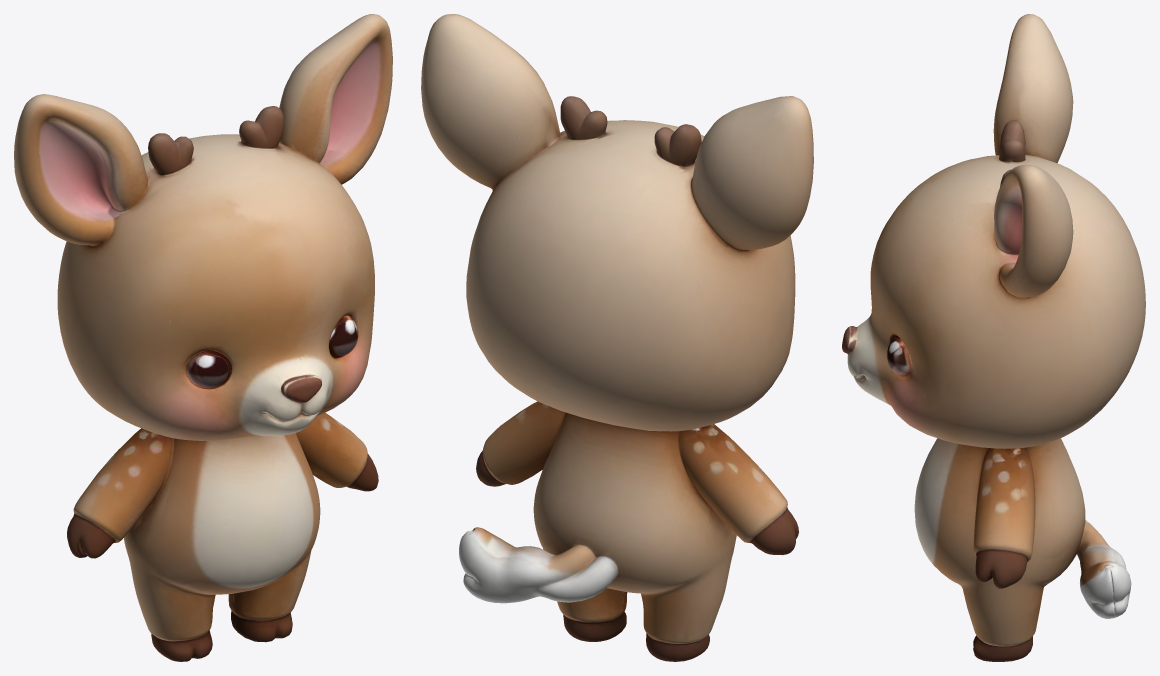
Rendered from npc_deer.glb.
3 views of the same model, side by side, from view 1: azimuth 30°, elevation 25°; view 2: azimuth 150°, elevation 25°; view 3: azimuth 270°, elevation 25° (orthographic). The views are drawn at different scales.
Parts seen in each view (by area): view 1: node_0; view 2: node_0; view 3: node_0.
Boxes of the visible parts, x1=… form: node_0: x1=14, y1=14, x2=392, y2=661; node_0: x1=421, y1=14, x2=813, y2=661; node_0: x1=842, y1=14, x2=1145, y2=661.
Size of the model in its own units: 0.689 by 1.02 by 0.5143.
1 material, 1 textured.
